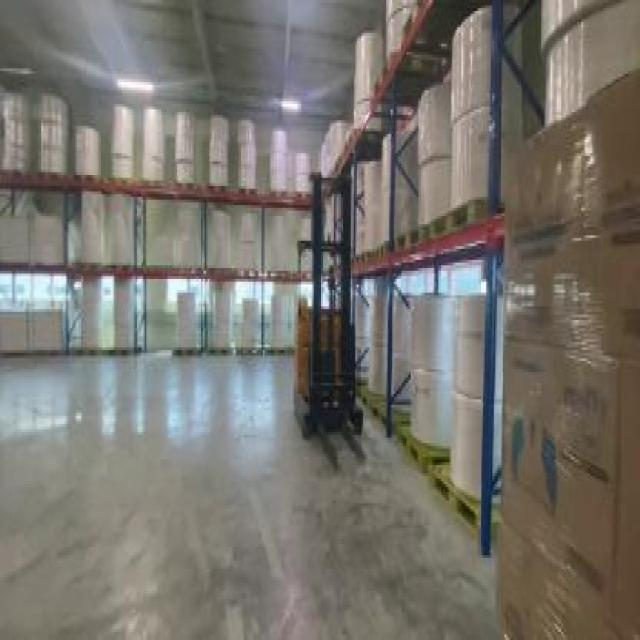box: (504, 71, 638, 637)
robot: (291, 172, 371, 465)
white_roll: (451, 8, 518, 208), (452, 284, 502, 503), (538, 0, 638, 109), (408, 293, 454, 454), (415, 79, 460, 216), (371, 290, 412, 407), (380, 129, 420, 235), (351, 33, 382, 128), (363, 159, 392, 249), (39, 93, 66, 181), (3, 93, 32, 172), (383, 0, 419, 60), (112, 276, 137, 353), (79, 279, 106, 350), (172, 110, 197, 184), (109, 194, 134, 268), (111, 104, 134, 178), (80, 188, 103, 262), (142, 107, 164, 183), (235, 118, 257, 192), (208, 115, 230, 189), (318, 120, 348, 172), (175, 287, 197, 356), (268, 123, 289, 194), (74, 120, 100, 175), (209, 208, 231, 271), (269, 216, 291, 271), (238, 208, 258, 268), (212, 293, 234, 347), (238, 298, 260, 350), (269, 293, 286, 347), (292, 150, 312, 194), (151, 233, 172, 268)
